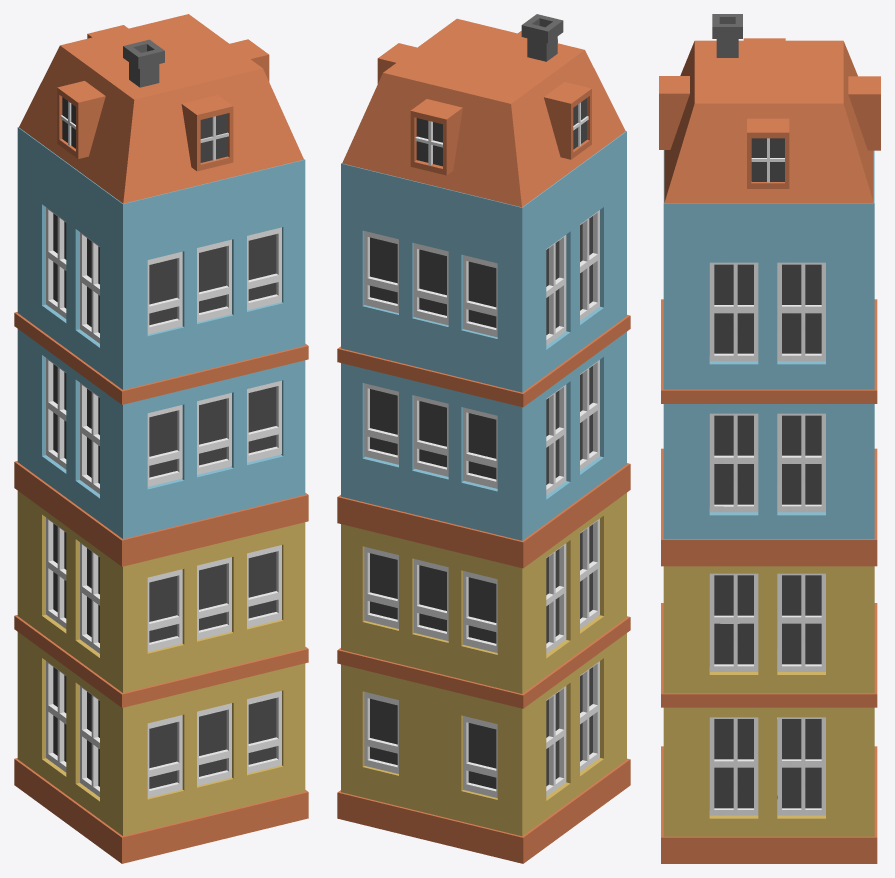
The model's file is low_poly_building_big.glb.
3 renders of one model, left to right at view 1: azimuth 30°, elevation 25°; view 2: azimuth 150°, elevation 25°; view 3: azimuth 270°, elevation 25°, orthographic.
Visible parts, largest first — view 1: Blue level_0, Yellow Level_5, Roof_3, short window frame_37, short window frame.001_40, Floor_1, Middle Floor_2, short window_36, Top floor.001_35, Top floor_4, short window.002_39, short window.001_38 (+18 smaller); view 2: Blue level_0, Yellow Level_5, Roof_3, short window frame_37, Middle Floor_2, Floor_1, short window_36, short window frame.001_40, Top floor.001_35, Top floor_4, short window.001_38, short window.002_39 (+18 smaller); view 3: Blue level_0, Yellow Level_5, Roof_3, Middle Floor_2, Floor_1, Top floor_4, Top floor.001_35, roof window.021_17, roof window.019_19, roof window.018_20, roof window.022_16, roof window.009_8 (+17 smaller).
Boxes of the visible parts, x1,y1,x2,y2 form: Blue level_0: (17,127,305,538); Yellow Level_5: (17,491,305,835); Roof_3: (19,14,303,203); short window frame_37: (149,234,276,477); short window frame.001_40: (149,551,276,788); Floor_1: (14,758,308,863); Middle Floor_2: (14,461,308,566); short window_36: (147,227,281,486); Top floor.001_35: (14,615,308,707); Top floor_4: (14,312,308,404); short window.002_39: (147,691,281,797); short window.001_38: (147,545,281,651); Blue level_0: (341,131,626,540); Yellow Level_5: (341,493,626,836); Roof_3: (342,18,625,207); short window frame_37: (370,237,496,479); Middle Floor_2: (337,463,630,568); Floor_1: (337,758,630,863); short window_36: (364,231,497,488); short window frame.001_40: (370,553,496,788); Top floor.001_35: (337,616,630,708); Top floor_4: (337,315,630,407); short window.001_38: (364,546,497,652); short window.002_39: (364,691,497,797); Blue level_0: (663,150,874,538); Yellow Level_5: (663,566,874,836); Roof_3: (664,40,873,202); Middle Floor_2: (661,448,877,566); Floor_1: (661,746,877,863); Top floor_4: (661,299,877,403); Top floor.001_35: (661,603,877,707); roof window.021_17: (782,575,821,664); roof window.019_19: (782,719,821,808); roof window.018_20: (714,719,753,808); roof window.022_16: (714,575,753,664); roof window.009_8: (714,264,753,353).
Size of the model in its own units: 8.95 by 34.53 by 8.92.
